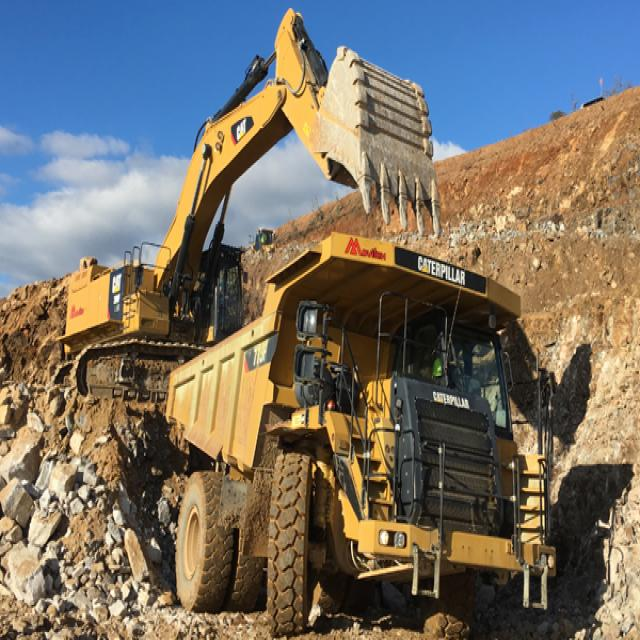dump_truck: (153, 229, 593, 621)
excavator: (41, 5, 480, 422)
